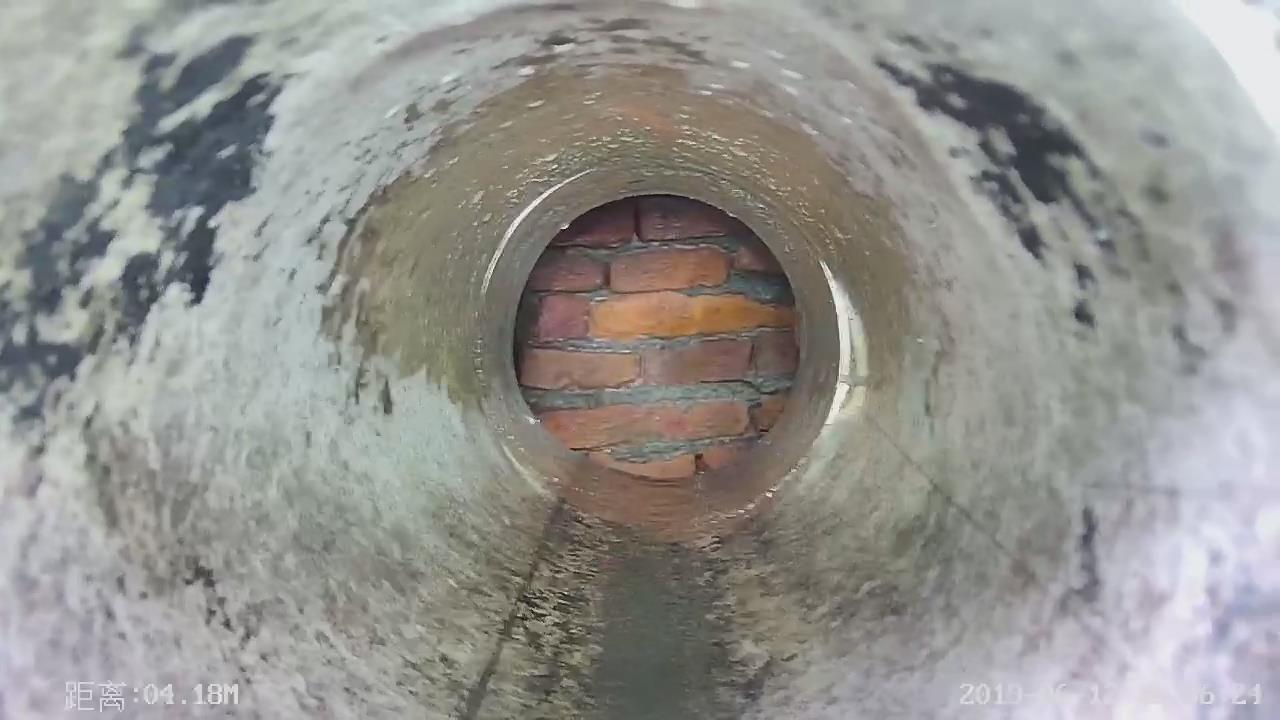CQBG: (515, 195, 800, 481)
